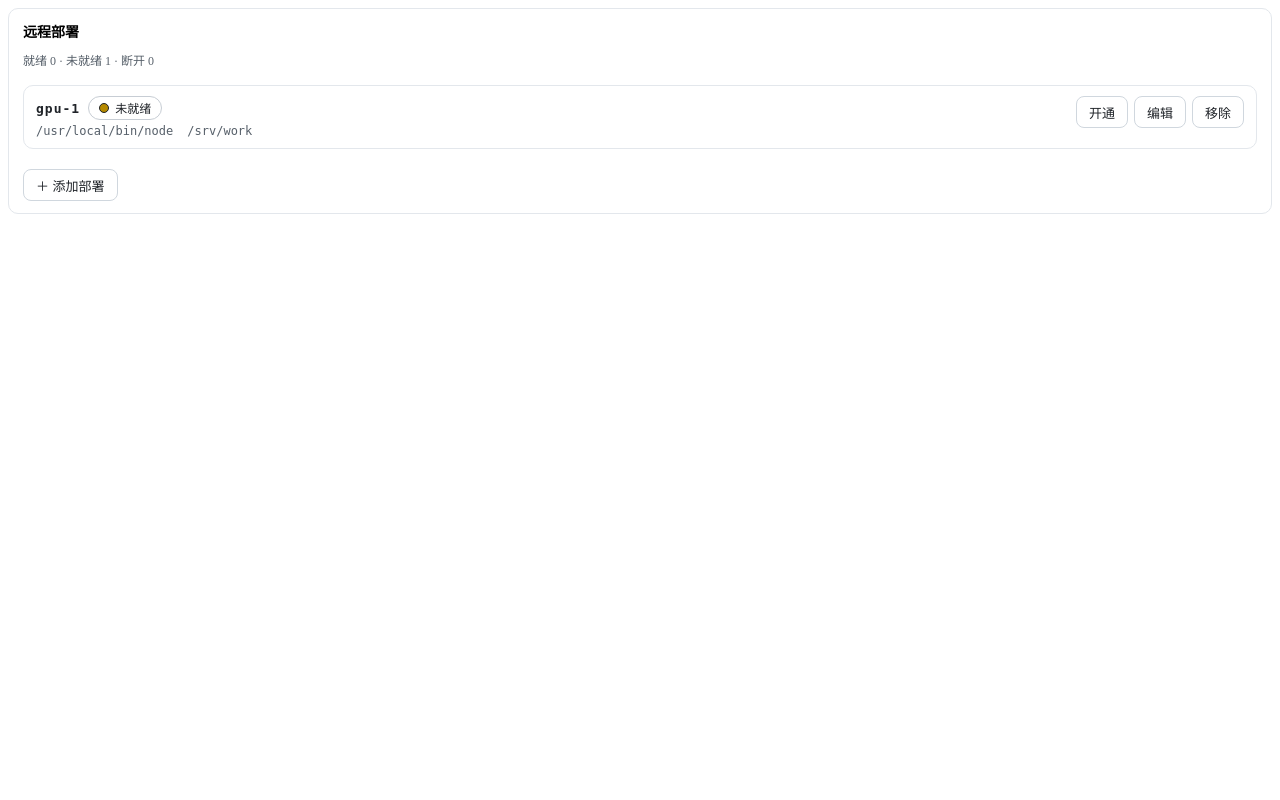
Test case: 开通向导（拉式步进） › 步①免密失败 → SSH_AUTH_REQUIRED 指引文案（ssh-copy-id）
The image size is (1280, 800).
Click the button with test id "deploy-provision". click: (1102, 112)
box: [1076,96,1128,128]
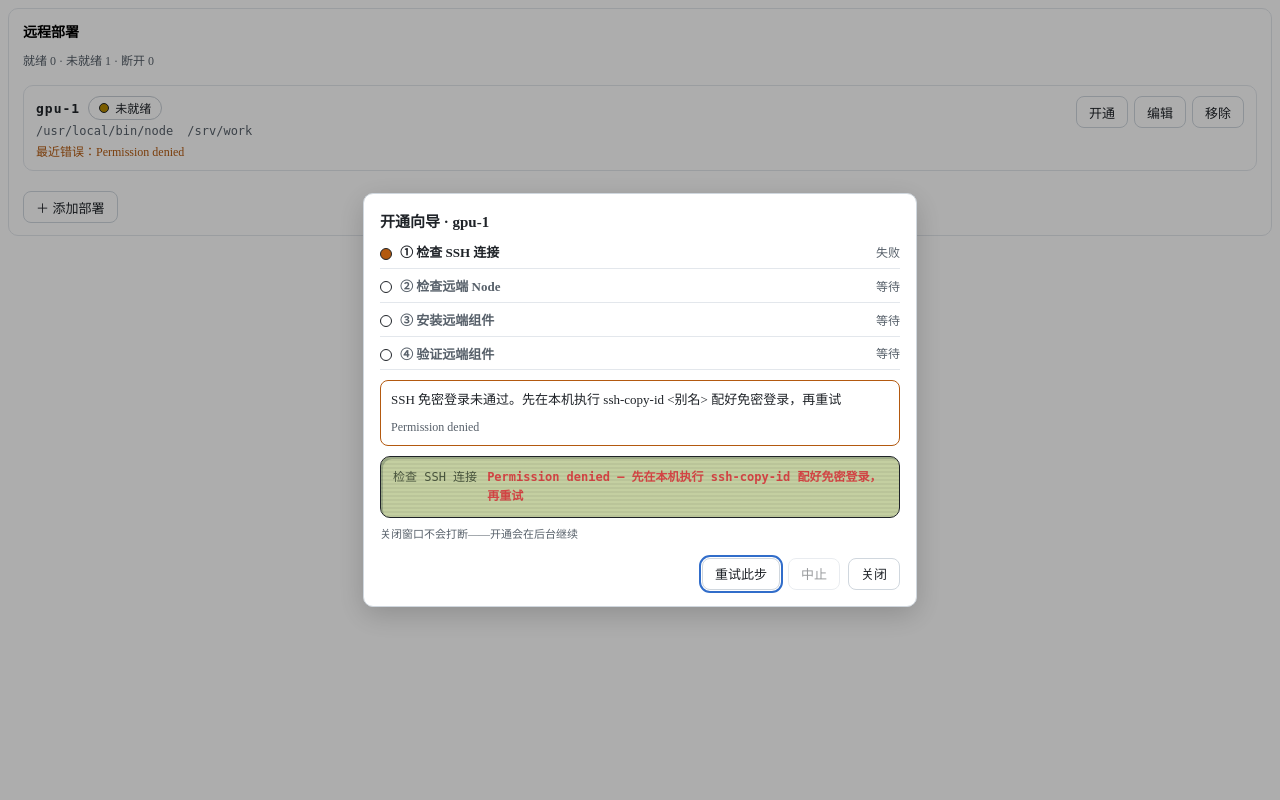
Now the message with test id "wizard-failure" shows "ssh-copy-id", box [391,392,841,408]
